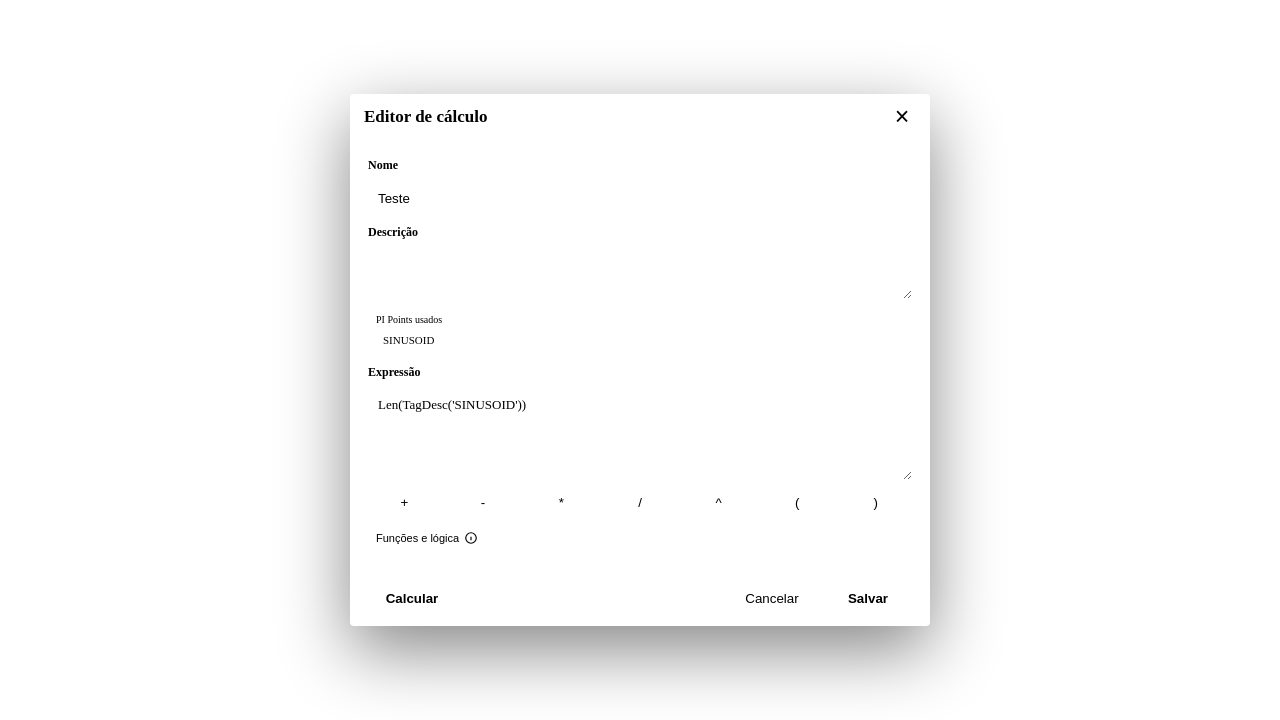
Scenario: aguarda metadata e calcula após um único clique
Click the button with test id "calculation-editor-execute": {"x": 412, "y": 598} [368,582,456,614]
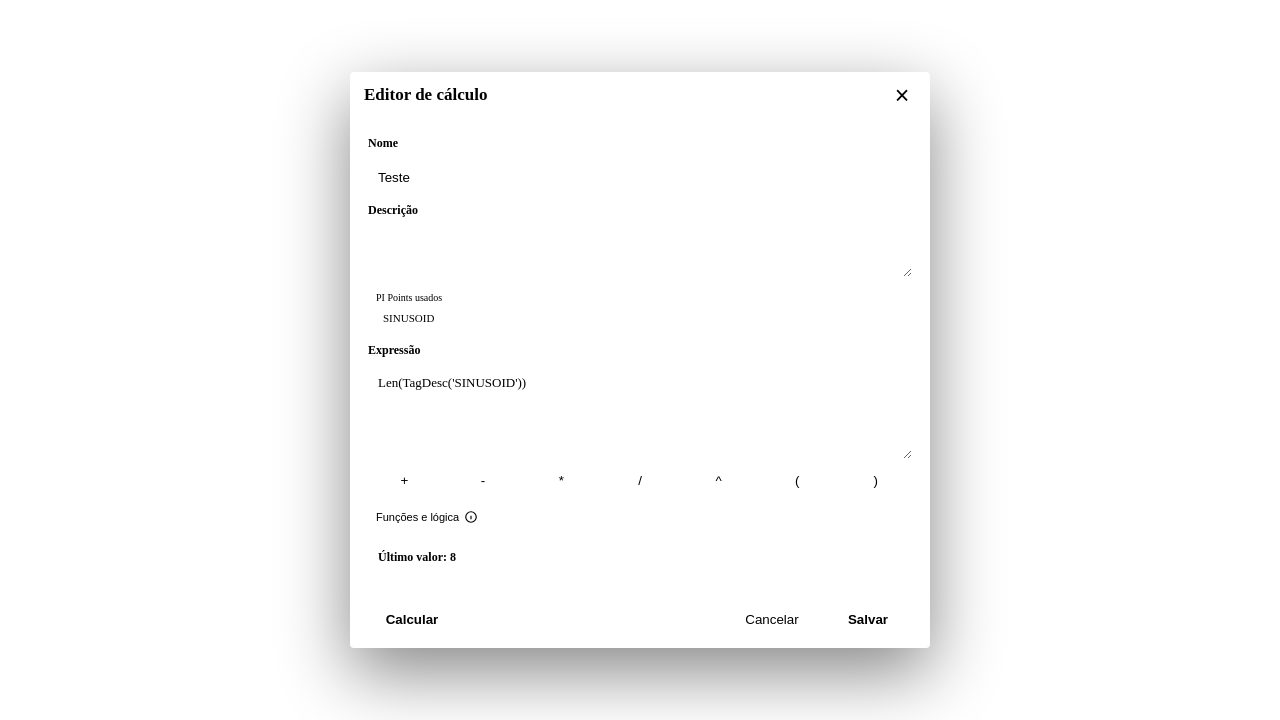
Expected: the element with test id "calculation-editor-result" reads "Último valor: 8", [378,550,456,564]
